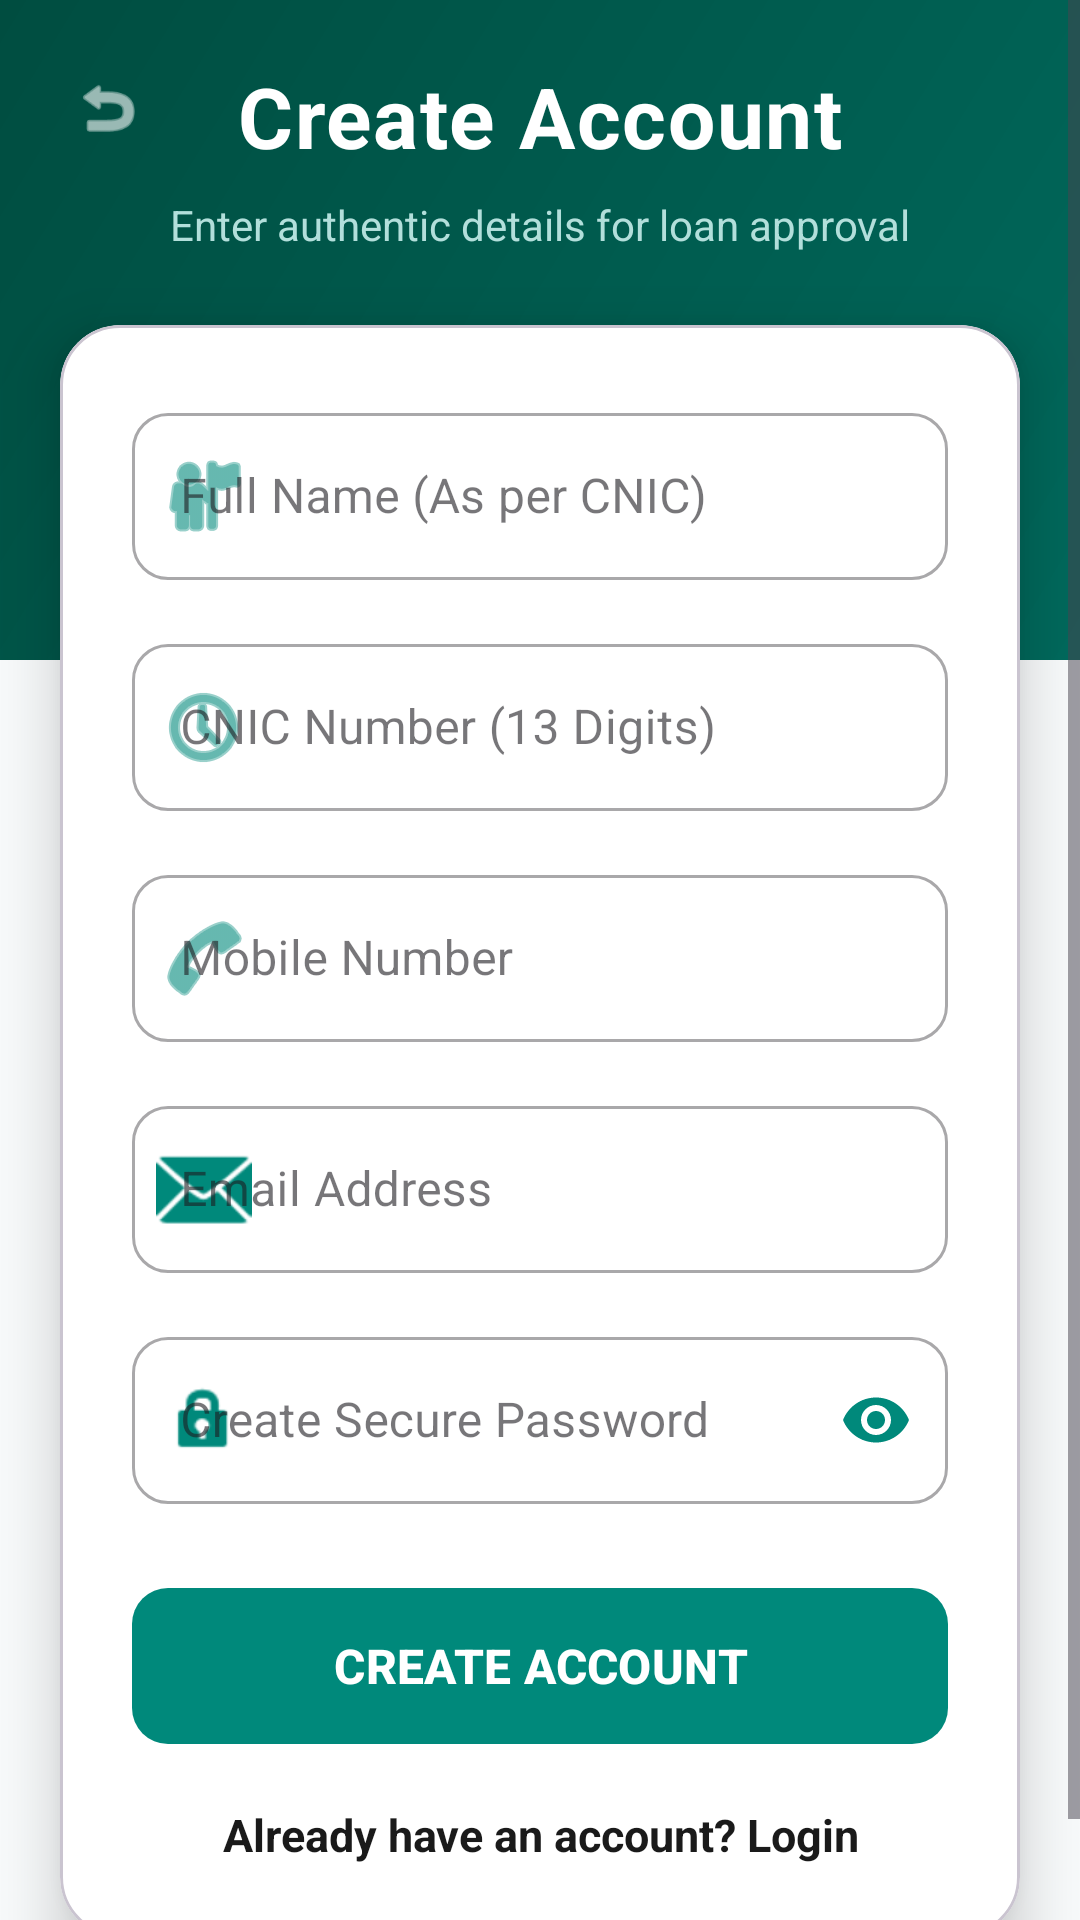

Icon click points for this 1080 × 1920 phone screenshot, format (x=x, y=y):
revert: (x=109, y=108)
